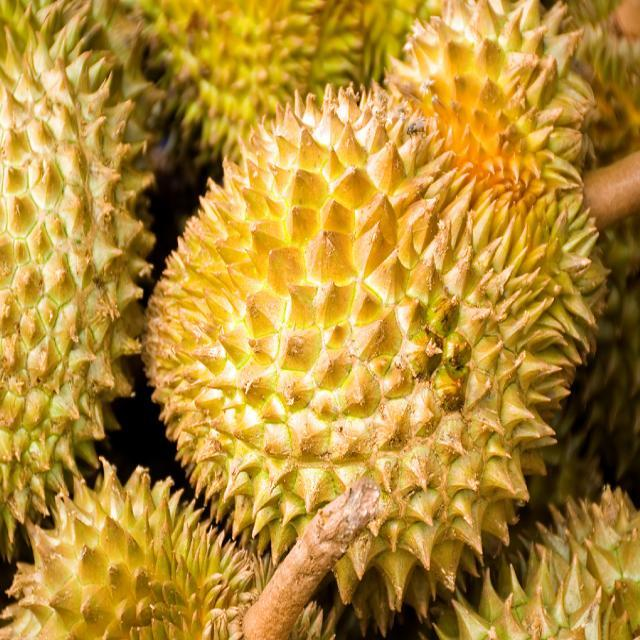mature: (145, 0, 605, 628), (0, 0, 159, 558)
